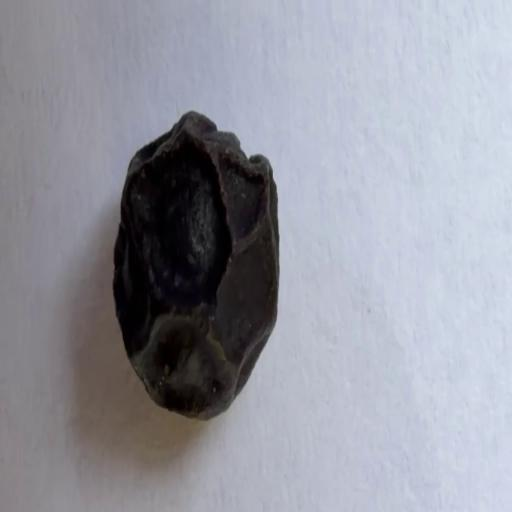Black_pepper: (104, 96, 299, 440)
